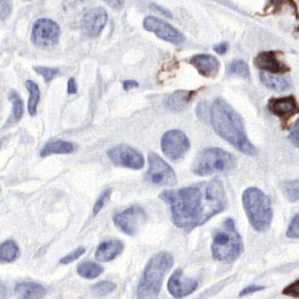Lymphocyte: (266, 92, 299, 129)
